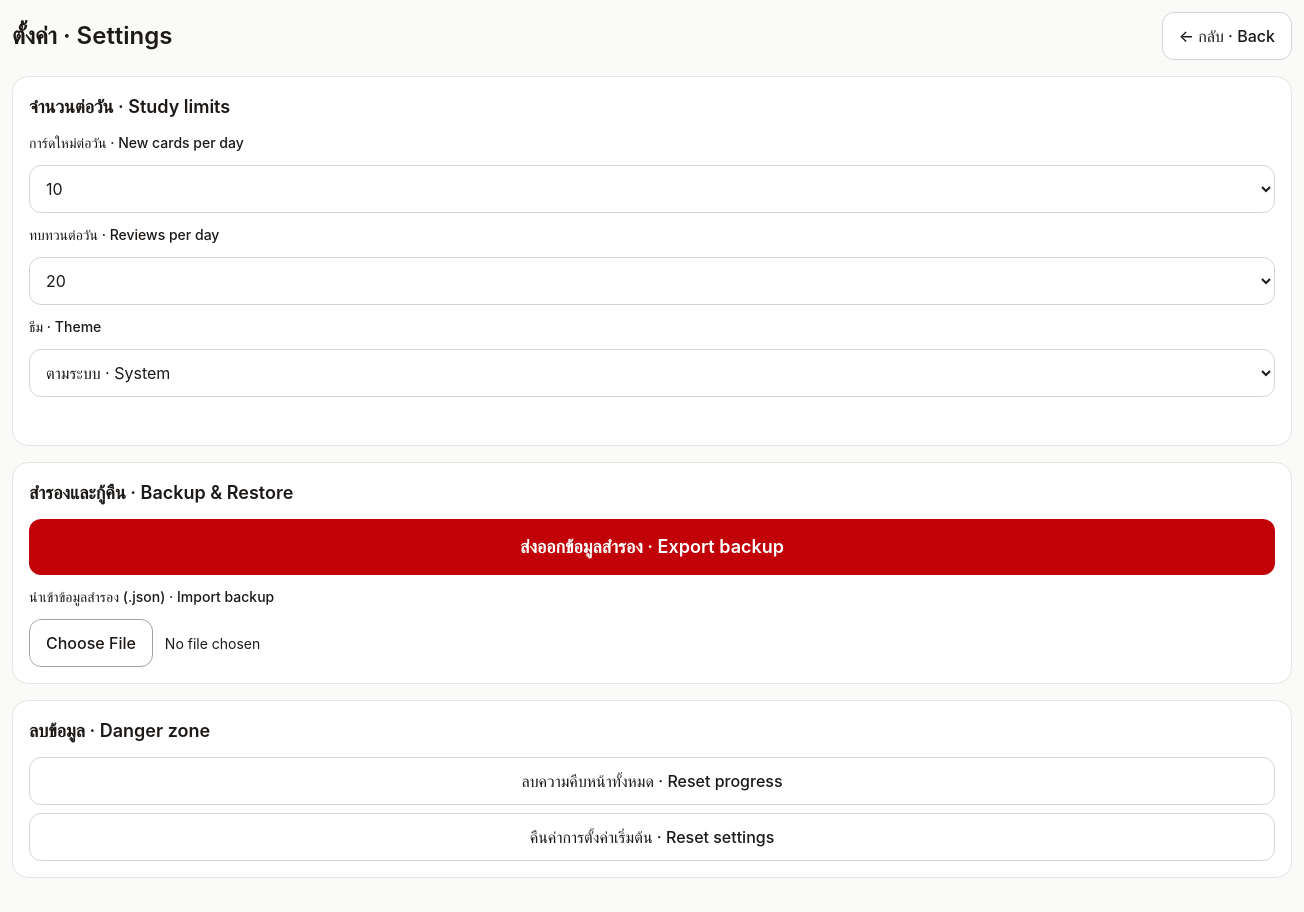
Test: study limits and theme › a failed save keeps the previous value and says so
Select "100" in the dropdown labelled "ทบทวนต่อวัน · Reviews per day" at (652, 281), box [29,257,1275,305]
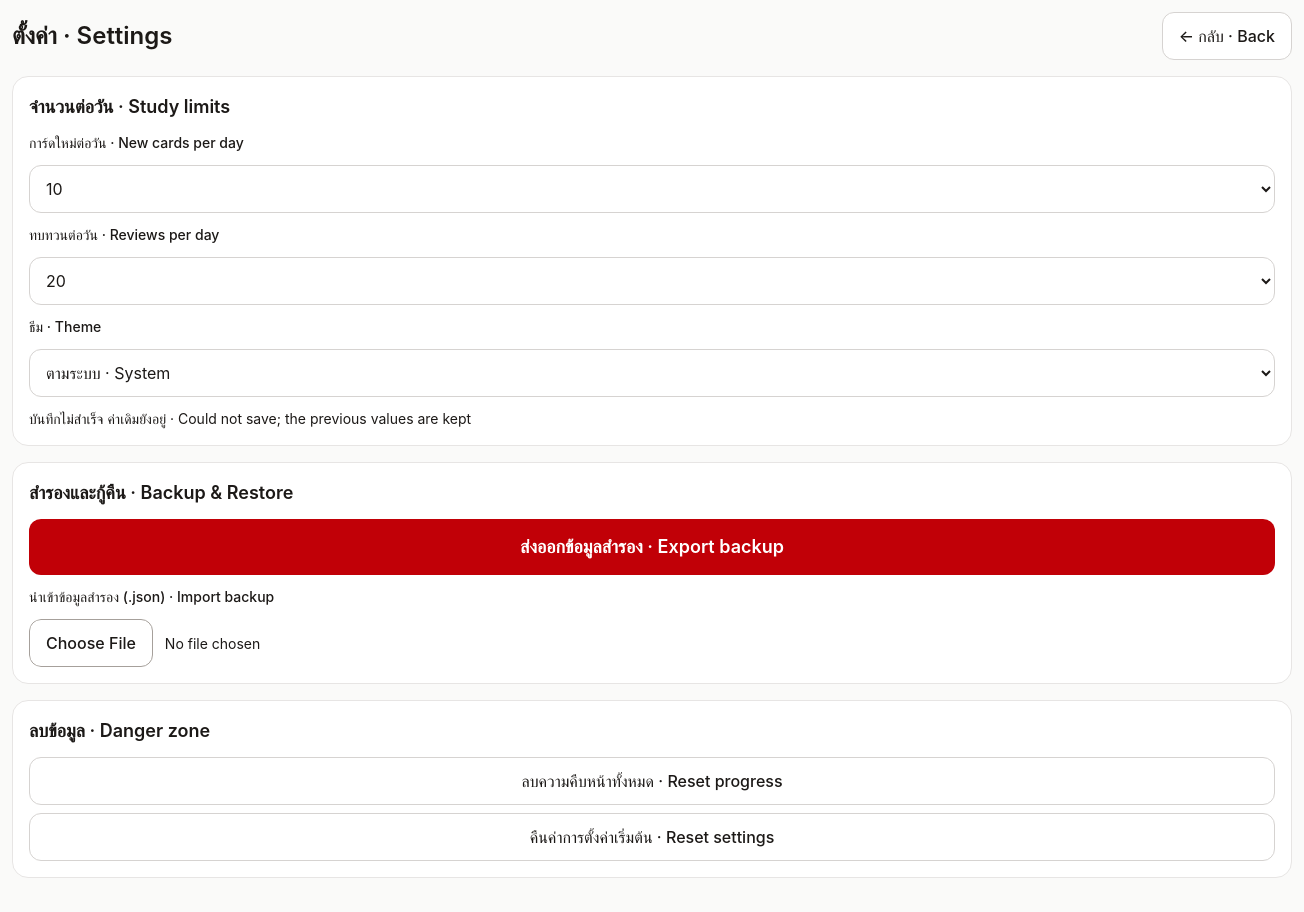
Check: the text "บันทึกไม่สำเร็จ ค่าเดิมยังอยู่ · Could not save; the previous values are kept" is shown, box [29,410,471,427]
